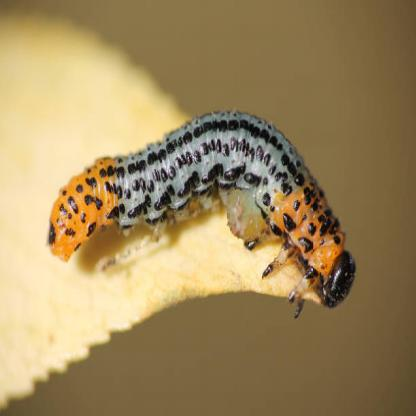sawfly: (43, 103, 359, 331)
